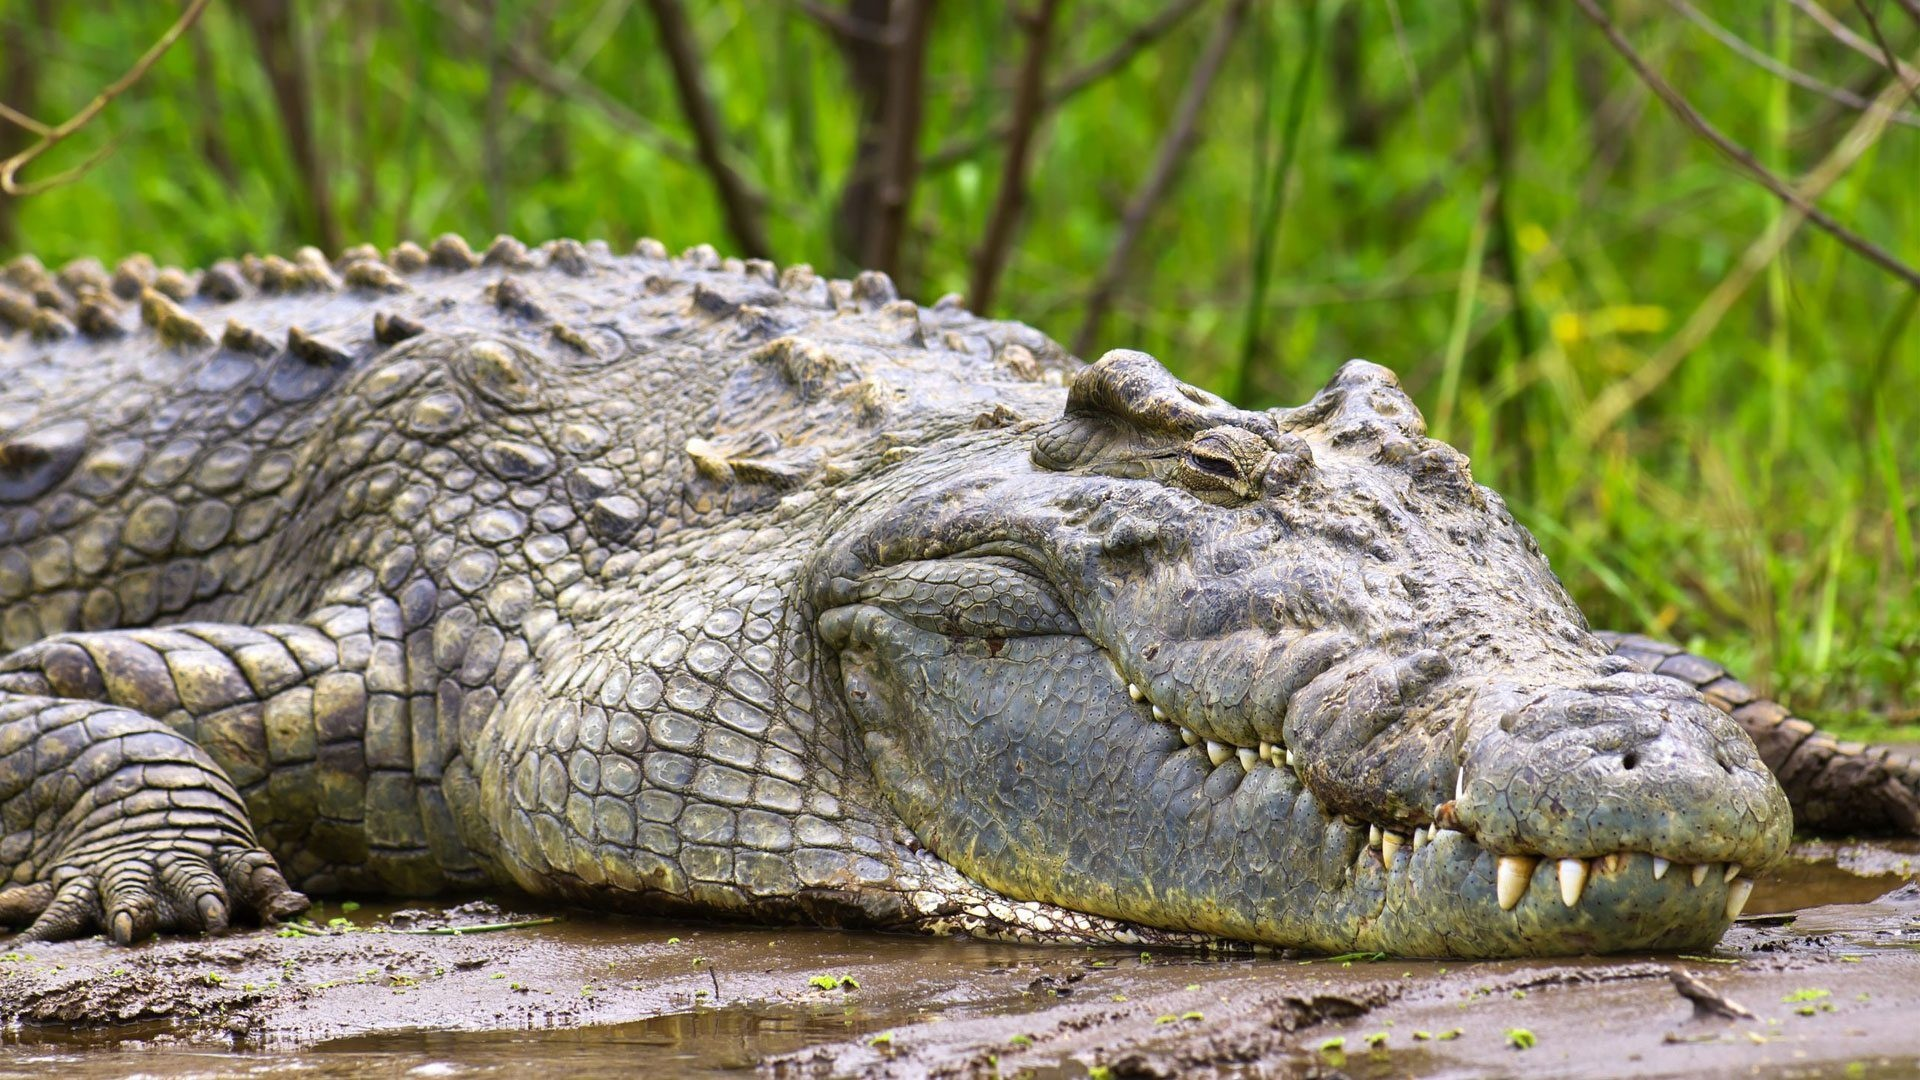crocodile: (0, 216, 1912, 975)
